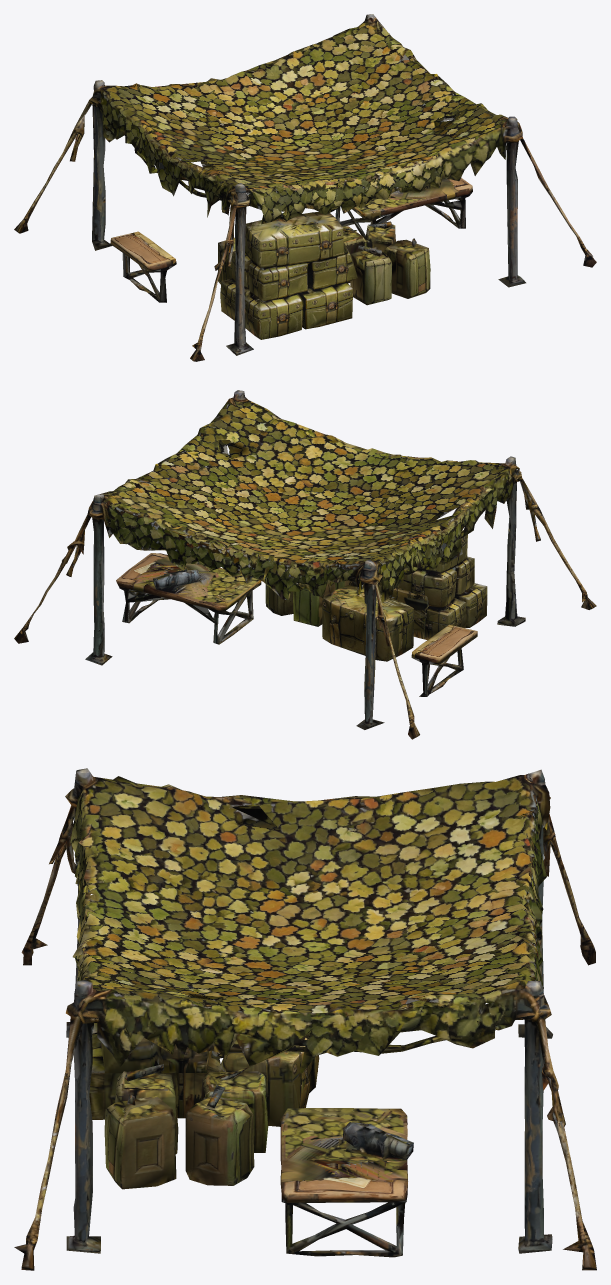
The model's file is EX_Mil_CamoNet.fbx.
3 views of the same model, one above another, from view 1: azimuth 30°, elevation 25°; view 2: azimuth 150°, elevation 25°; view 3: azimuth 270°, elevation 25° (orthographic). The views are drawn at different scales.
Visible parts, largest first — view 1: texture_mapping; view 2: texture_mapping; view 3: texture_mapping.
Boxes of the visible parts, x1=… form: texture_mapping: x1=14, y1=14, x2=596, y2=361; texture_mapping: x1=14, y1=390, x2=596, y2=739; texture_mapping: x1=14, y1=768, x2=596, y2=1270.
Bounding box in the file's own units: 0.9893 × 0.7708 × 0.3879.
Materials: 1 (1 with a texture image).
